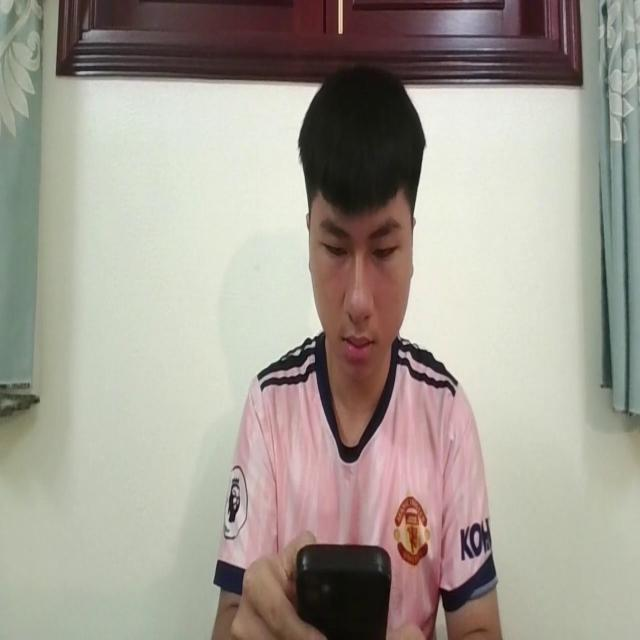phone: (294, 533, 390, 640)
student: (214, 59, 504, 640)
